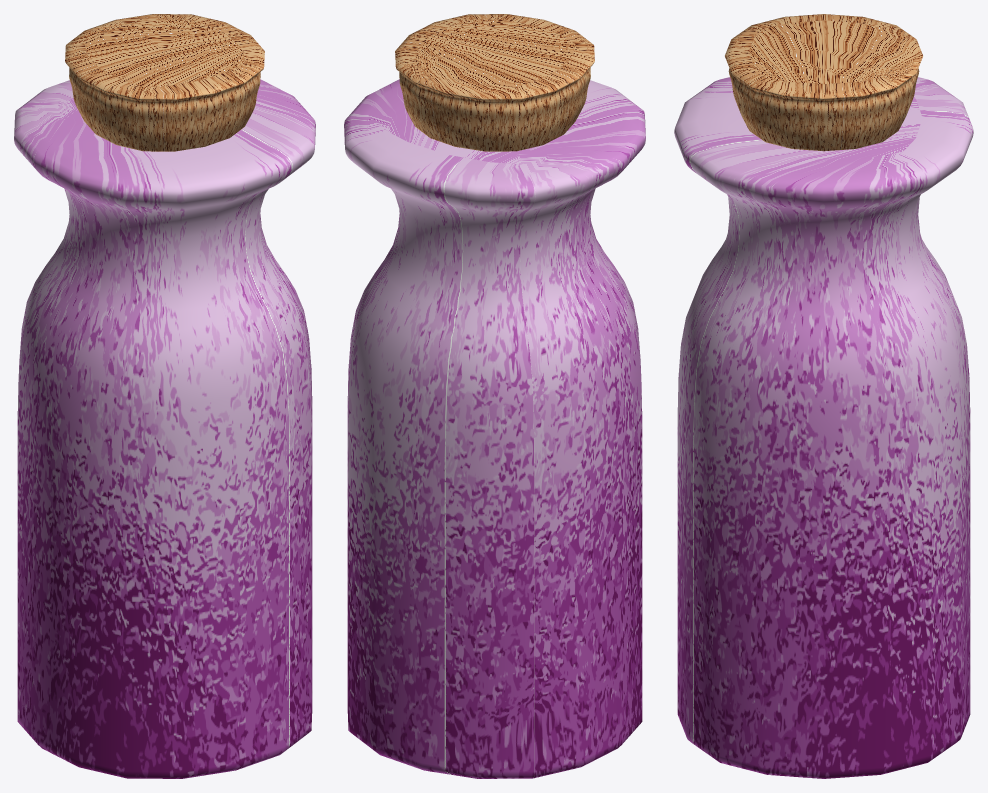
Rendered from Leviathinmilk.fbx.
The picture shows the model from 3 angles, left to right: view 1: azimuth 30°, elevation 25°; view 2: azimuth 150°, elevation 25°; view 3: azimuth 270°, elevation 25°; orthographic projection.
Visible parts, largest first — view 1: polySurface2; view 2: polySurface2; view 3: polySurface2.
Part boxes in pixels (box(x1,y1,x2,y2)): polySurface2: box(14, 14, 315, 778); polySurface2: box(344, 14, 645, 778); polySurface2: box(674, 14, 973, 778).
Bounding box in the file's own units: 2.9 × 7.22 × 2.9.
